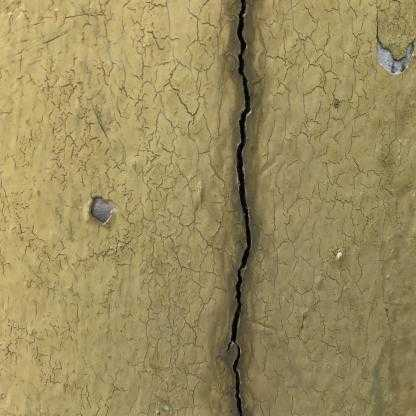crack: (226, 2, 253, 414)
